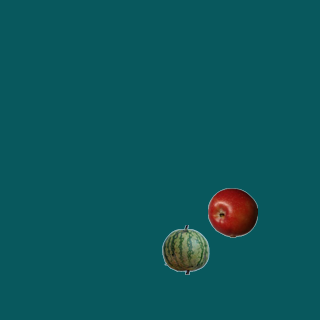Apple Braeburn: (207, 187, 257, 237)
Watermelon: (160, 224, 210, 274)
